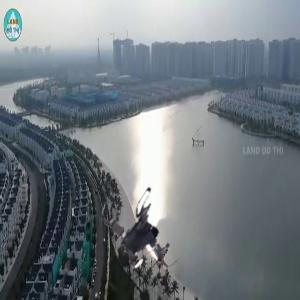drone: (97, 178, 198, 279)
